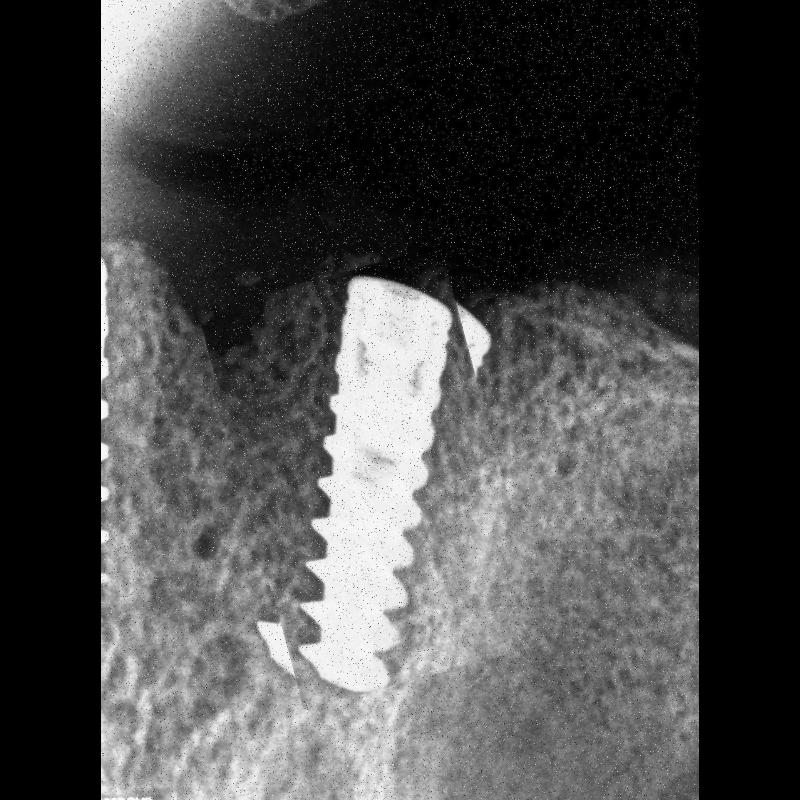ADIN: (222, 259, 522, 697)
